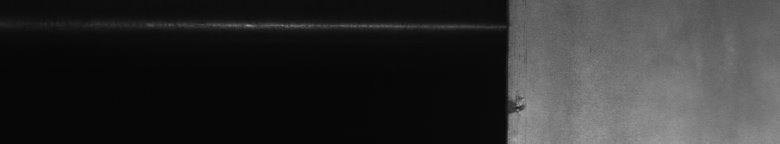hb: (516, 92, 529, 118)
